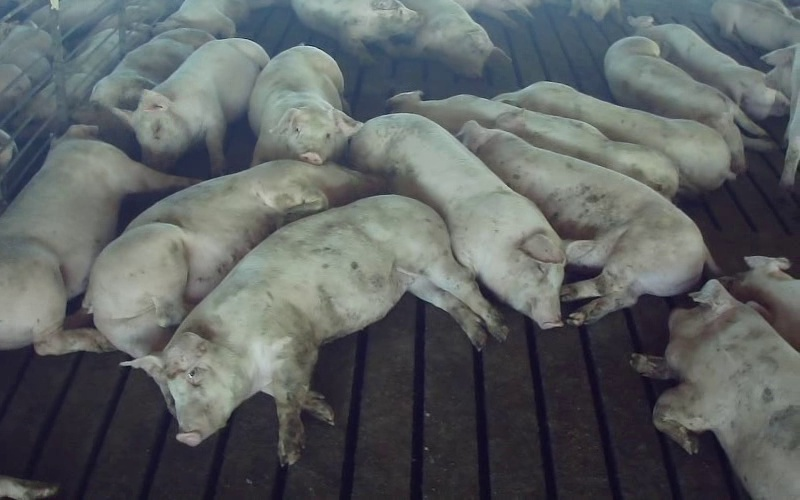pig: (125, 195, 506, 463), (84, 160, 385, 357), (459, 113, 713, 323), (0, 126, 193, 354), (631, 280, 799, 499), (387, 91, 678, 198), (494, 81, 735, 190), (604, 36, 765, 173), (114, 38, 268, 176), (73, 28, 213, 158), (629, 16, 788, 119), (248, 46, 361, 164), (385, 0, 509, 77), (292, 0, 419, 62), (721, 256, 799, 350)
